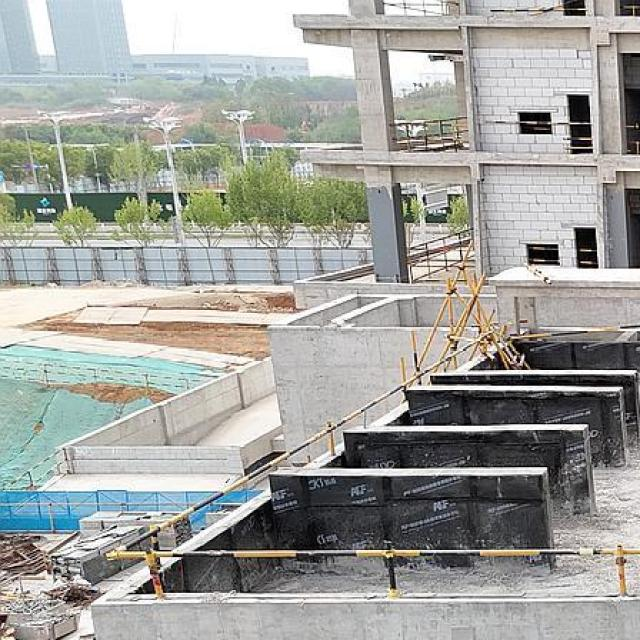edge_guardrail: (104, 327, 640, 602), (406, 228, 476, 285), (390, 116, 470, 153), (507, 324, 640, 340), (382, 0, 445, 16), (485, 120, 592, 126), (528, 246, 561, 264), (624, 124, 640, 156), (489, 7, 588, 12), (562, 137, 594, 150), (576, 248, 598, 265), (618, 4, 640, 16)
